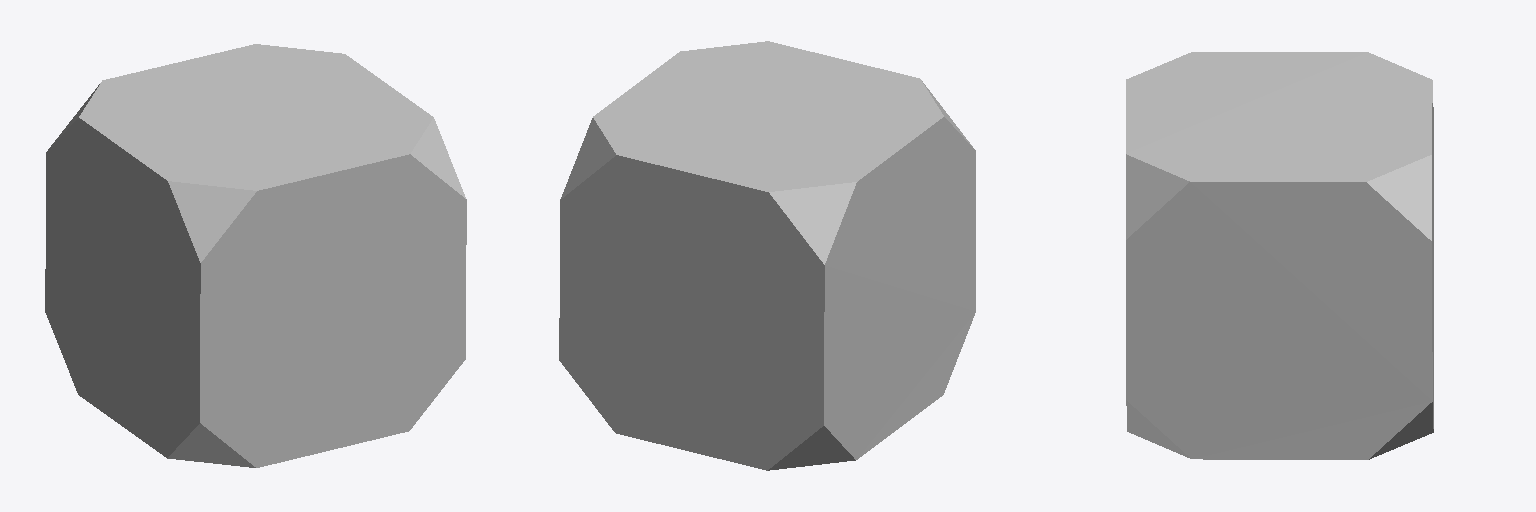
File: cube_cutted_smoothed_70.obj
3 renders of one model, left to right at view 1: azimuth 30°, elevation 25°; view 2: azimuth 150°, elevation 25°; view 3: azimuth 270°, elevation 25°, orthographic.
Size of the model in its own units: 0.1743 by 0.1743 by 0.1748.